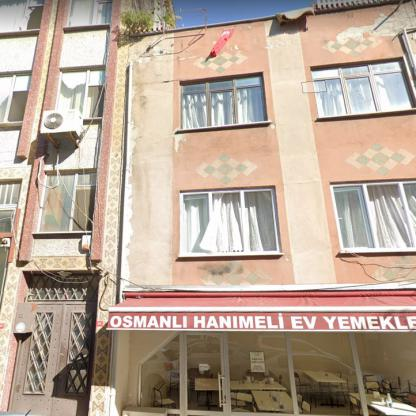door: (12, 278, 93, 415), (188, 334, 226, 414)
window: (230, 334, 414, 415), (181, 186, 278, 256), (332, 182, 416, 250), (310, 62, 414, 115), (116, 332, 180, 410), (182, 74, 266, 129), (38, 173, 96, 231), (56, 66, 103, 116), (0, 76, 30, 121), (0, 183, 22, 237), (3, 2, 40, 30), (70, 1, 111, 24)
